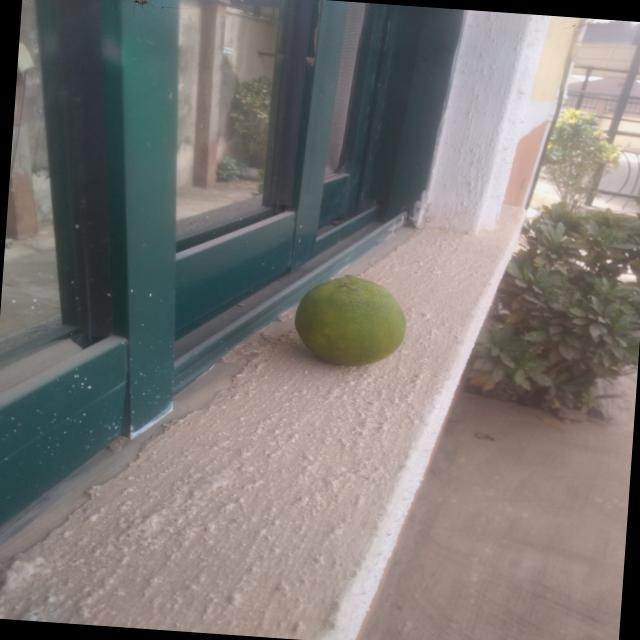agrume: (243, 258, 434, 394)
